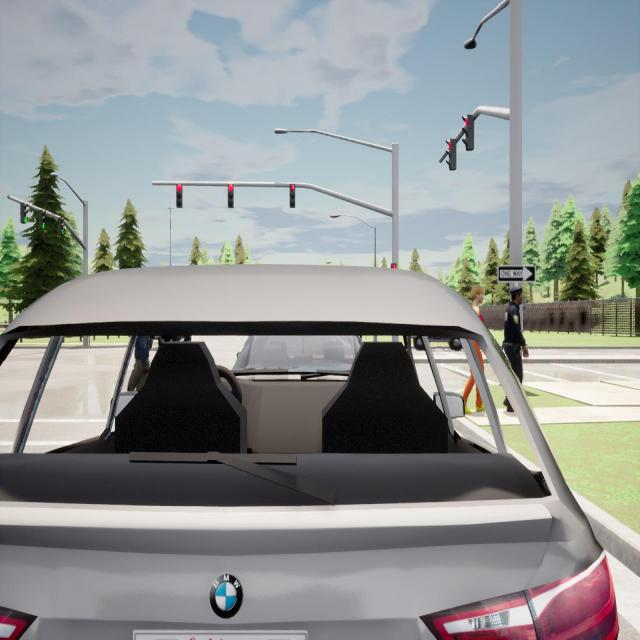Pedestrian: (458, 283, 490, 415), (501, 284, 532, 413), (130, 338, 151, 388)
Traffic_Signs: (497, 264, 536, 282)
Vehicle: (0, 265, 618, 638), (229, 334, 357, 381)
traffic_light: (462, 113, 475, 153), (445, 139, 458, 170), (175, 182, 184, 209), (18, 202, 29, 224), (226, 182, 235, 206), (289, 184, 297, 208), (55, 216, 65, 234), (39, 209, 46, 229), (390, 263, 397, 269)
